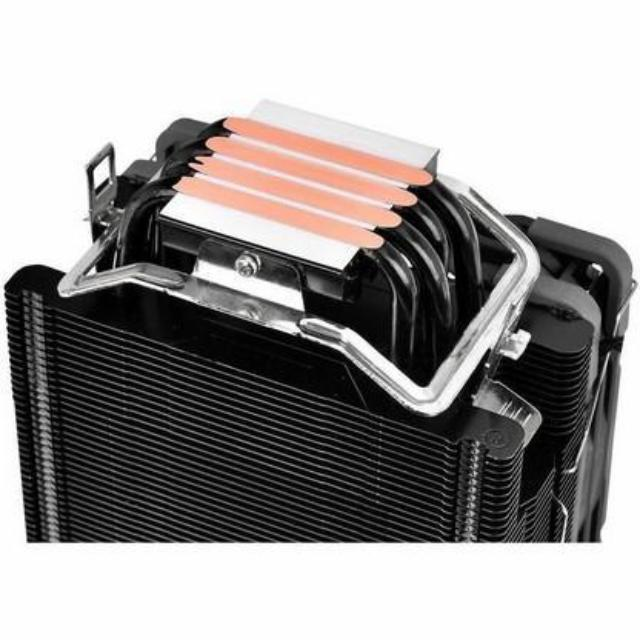CPU_Fan: (12, 106, 623, 534)
